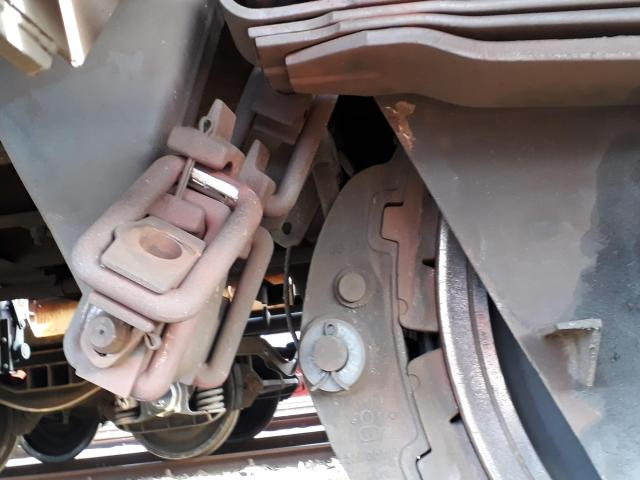blattfederww: (206, 4, 638, 94)
